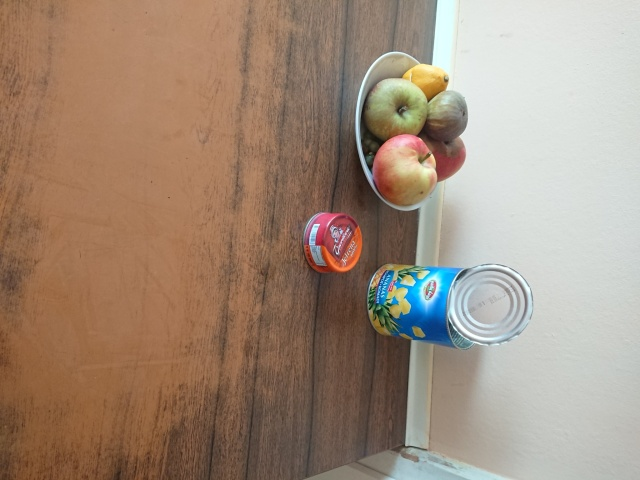Gavrilovic Pork Liver Pate 100g: (300, 209, 365, 278)
